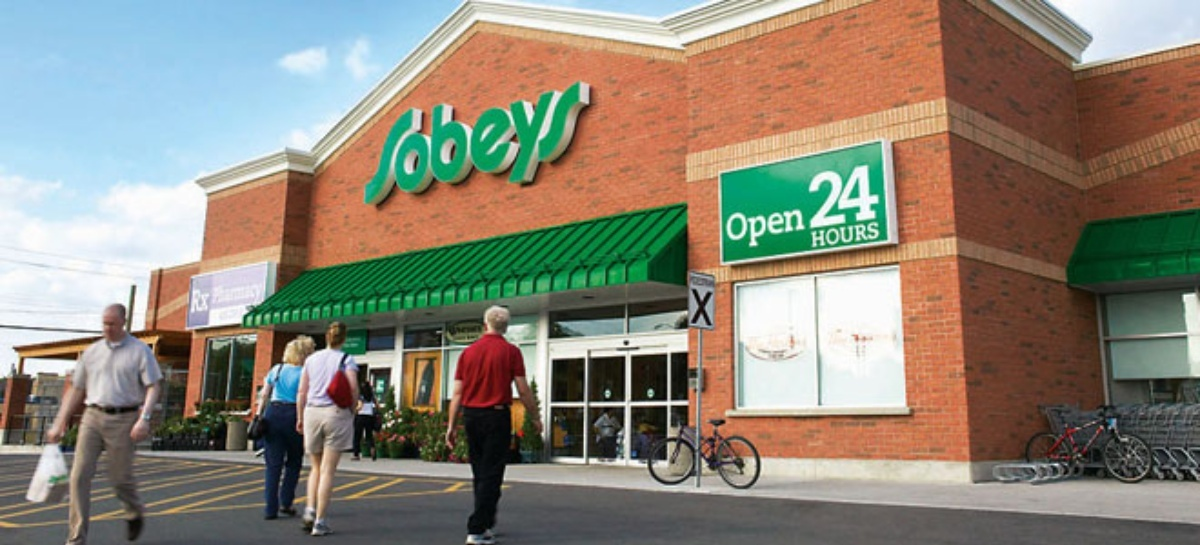text: (401, 75, 416, 208), (417, 75, 432, 208), (433, 75, 448, 208), (449, 75, 464, 208), (465, 75, 480, 208), (481, 75, 496, 208), (497, 75, 512, 208), (513, 75, 528, 208), (529, 75, 544, 208), (545, 75, 560, 208), (561, 75, 576, 208), (577, 75, 591, 208), (817, 162, 832, 229), (833, 162, 848, 229), (849, 162, 864, 229), (865, 162, 880, 229), (393, 75, 400, 208), (804, 162, 816, 229), (737, 204, 752, 251), (753, 204, 768, 251), (769, 204, 784, 251), (785, 204, 800, 251), (724, 204, 736, 251), (225, 280, 240, 308), (241, 280, 256, 308), (193, 286, 208, 313), (210, 280, 224, 308), (817, 222, 832, 248), (833, 222, 848, 248), (849, 222, 864, 248), (865, 222, 880, 248), (801, 204, 808, 251), (810, 222, 816, 248), (257, 280, 262, 308), (881, 162, 882, 229), (191, 286, 192, 313), (209, 286, 210, 313), (881, 222, 882, 248)
